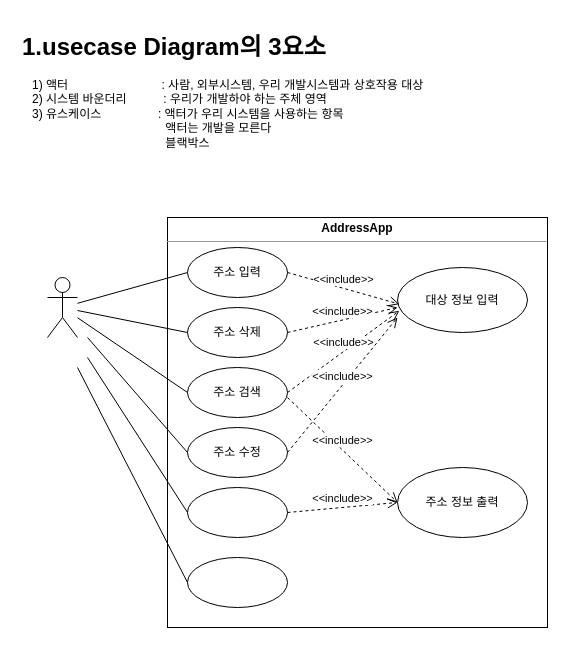
Some shapes in this 565 by 645 pixel diagram are drawn without their labels. The shapes that lost their labels are listed below. From the top down, each one's centre as x and y in pixels, then its label:
point (62, 307): 사용자
point (237, 512): 주소 전체 검색
point (237, 582): 종료
